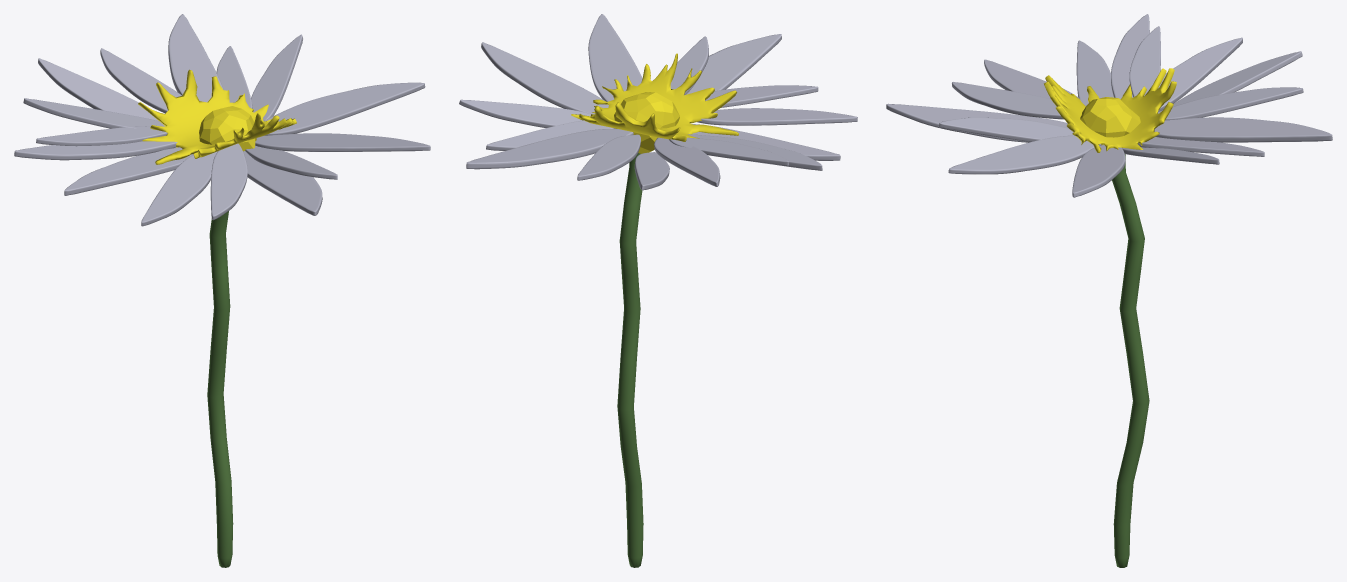
File: Flower2.fbx
3 views of the same model, side by side, from view 1: azimuth 30°, elevation 25°; view 2: azimuth 150°, elevation 25°; view 3: azimuth 270°, elevation 25° (orthographic).
Visible parts, largest first — view 1: Flower, pCylinder1; view 2: Flower, pCylinder1; view 3: Flower, pCylinder1.
Boxes of the visible parts, x1,y1,x2,y2 form: Flower: (14,14,430,226); pCylinder1: (207,211,233,567); Flower: (459,14,857,190); pCylinder1: (617,153,643,567); Flower: (886,14,1332,197); pCylinder1: (1112,154,1149,567).
Bounding box in the file's own units: 0.4968 × 0.6095 × 0.5116.
